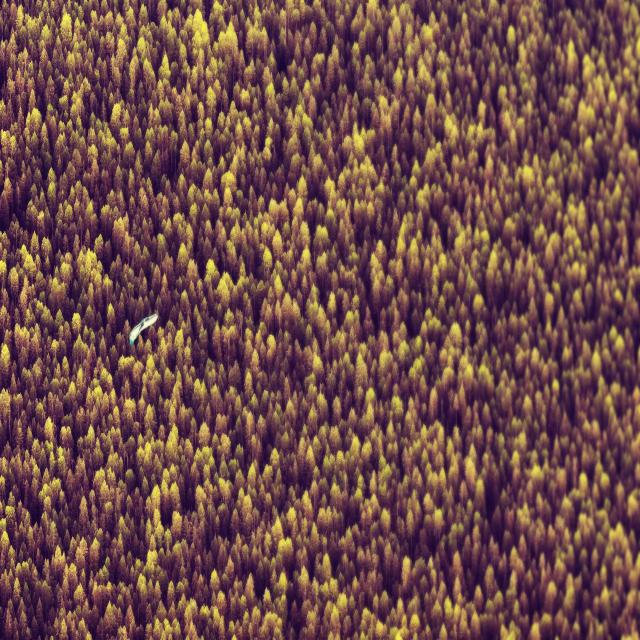airplane: (128, 312, 158, 347)
